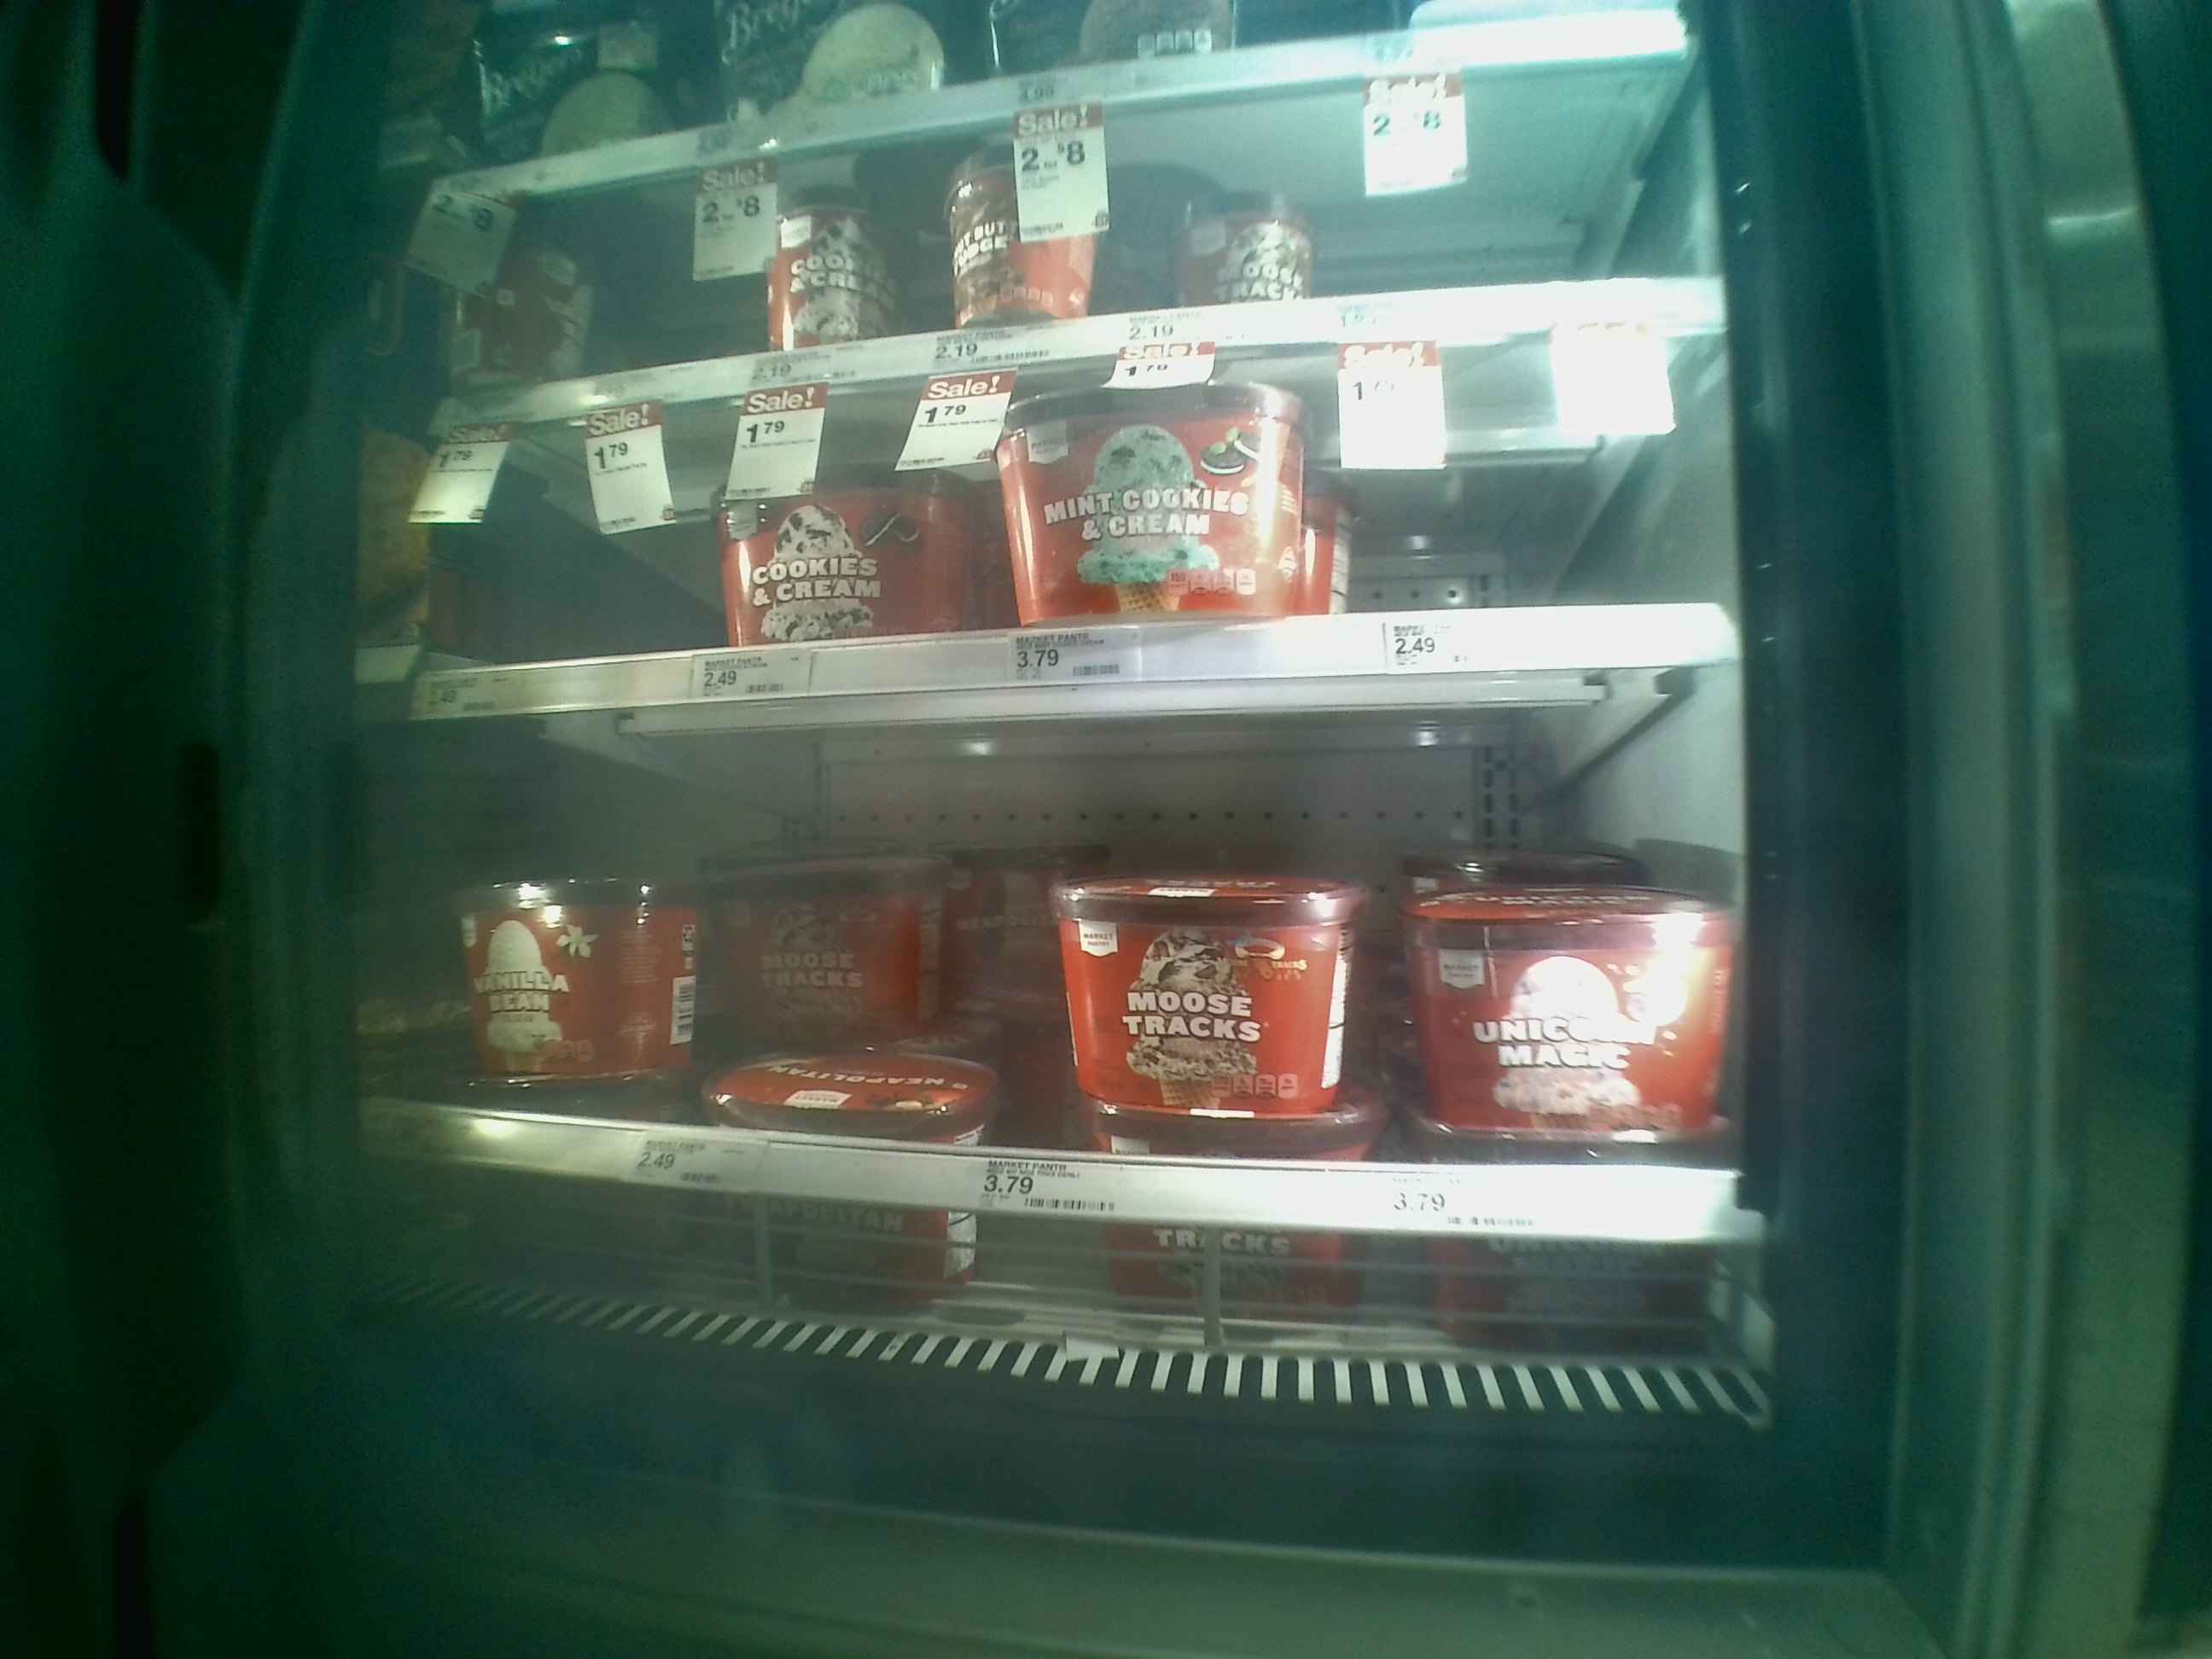shelf: (380, 704, 1754, 1251), (404, 331, 1731, 723), (435, 56, 1724, 441)
